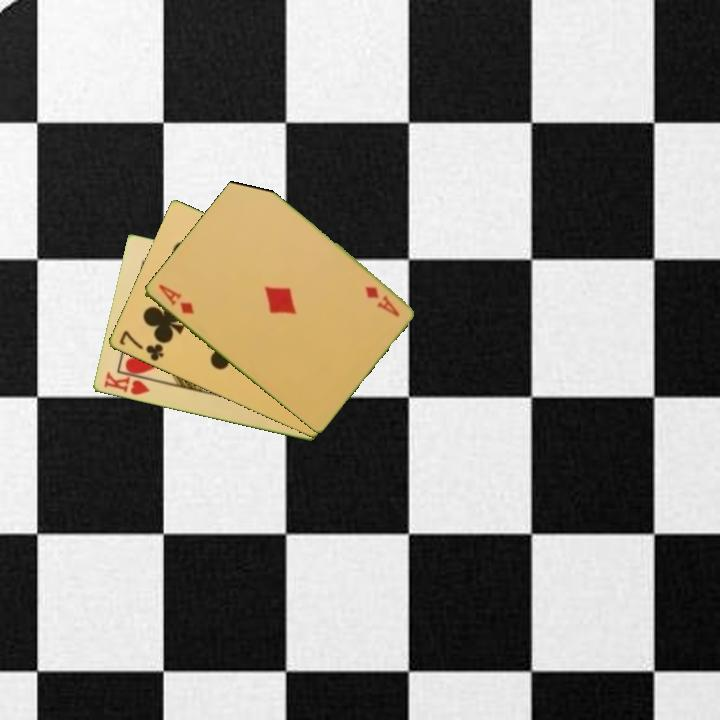7c: (115, 327, 166, 364)
Ad: (361, 283, 402, 320), (154, 281, 196, 317)
Kh: (100, 369, 157, 398)
